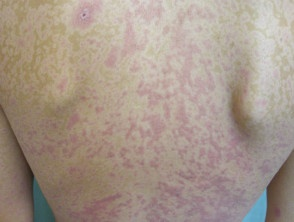SJS-TEN: (19, 3, 266, 220)
